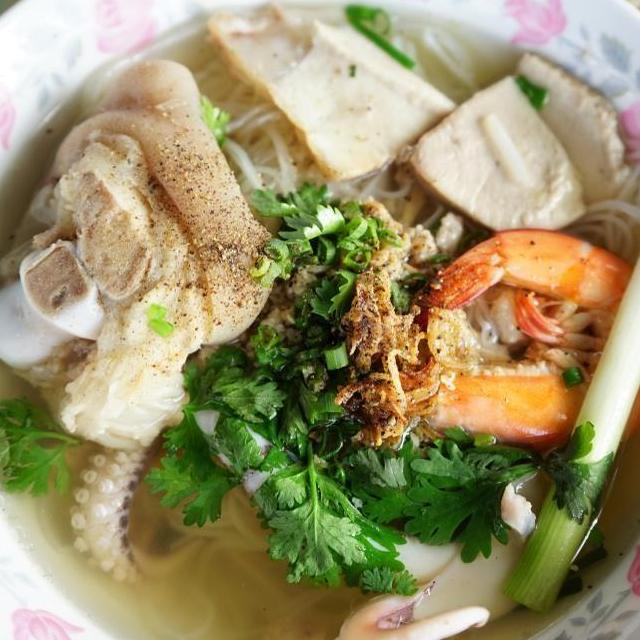hu tieu: (185, 50, 424, 232), (553, 116, 640, 269)
muc: (179, 401, 552, 640), (59, 410, 212, 586)
thit heo: (385, 68, 591, 240), (495, 45, 640, 212)
tom: (377, 223, 640, 460)
